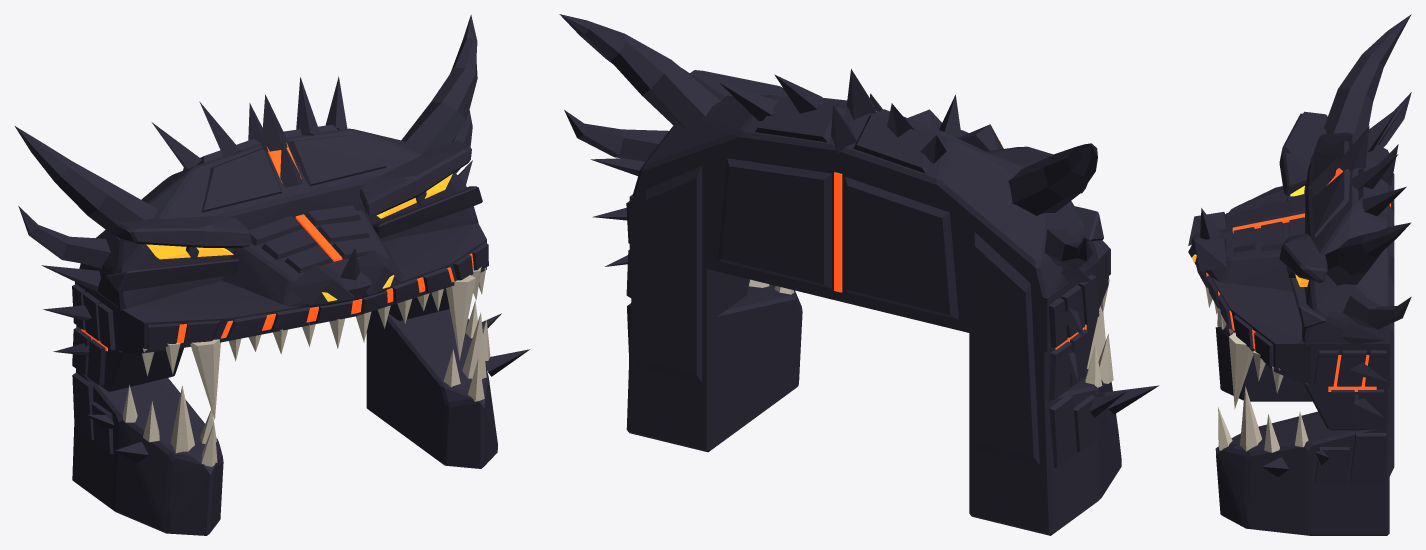
Rendered from dragonhead.glb.
3 renders of one model, left to right at view 1: azimuth 30°, elevation 25°; view 2: azimuth 150°, elevation 25°; view 3: azimuth 270°, elevation 25°, orthographic. The views are drawn at different scales.
Parts seen in each view (by area): view 1: DragonHead; view 2: DragonHead; view 3: DragonHead.
Part boxes in pixels (x1,y1,x2,y2): DragonHead: (15, 14, 529, 535); DragonHead: (559, 14, 1159, 535); DragonHead: (1188, 14, 1411, 535).
Size of the model in its own units: 56 by 42 by 25.4.
